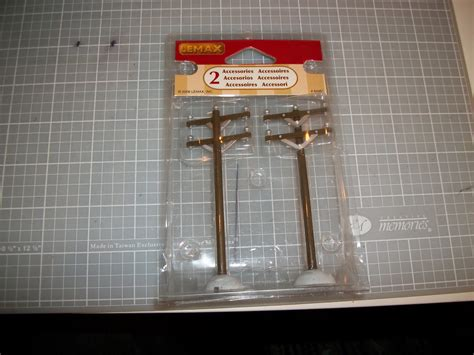pole: (174, 91, 264, 299), (263, 100, 349, 285)
